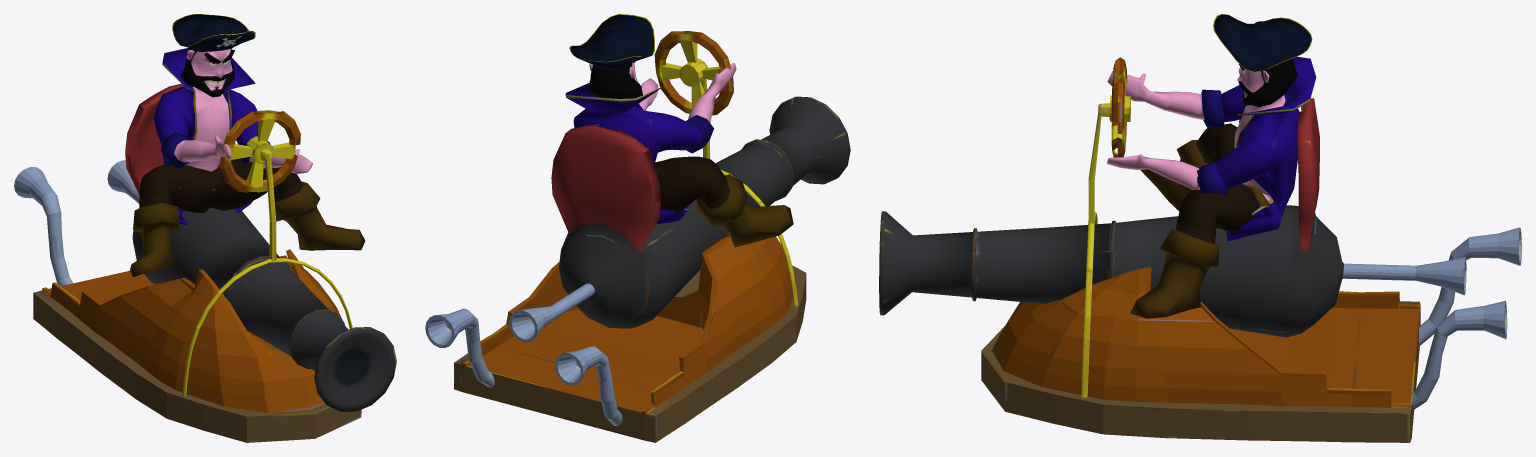
Rendered from pirataGiroDER_000324.obj.
3 renders of one model, left to right at view 1: azimuth 30°, elevation 25°; view 2: azimuth 150°, elevation 25°; view 3: azimuth 270°, elevation 25°, orthographic. The views are drawn at different scales.
Visible parts, largest first — view 1: carro_pirata, Pirata_PirataH; view 2: carro_pirata, Pirata_PirataH; view 3: carro_pirata, Pirata_PirataH.
Part boxes in pixels (<box>): carro_pirata: <box>14,83,396,442</box>; Pirata_PirataH: <box>130,14,365,277</box>; carro_pirata: <box>425,31,850,442</box>; Pirata_PirataH: <box>565,14,793,247</box>; carro_pirata: <box>879,57,1521,442</box>; Pirata_PirataH: <box>1107,14,1316,318</box>.
Size of the model in its own units: 5.65 by 7.68 by 12.1.
